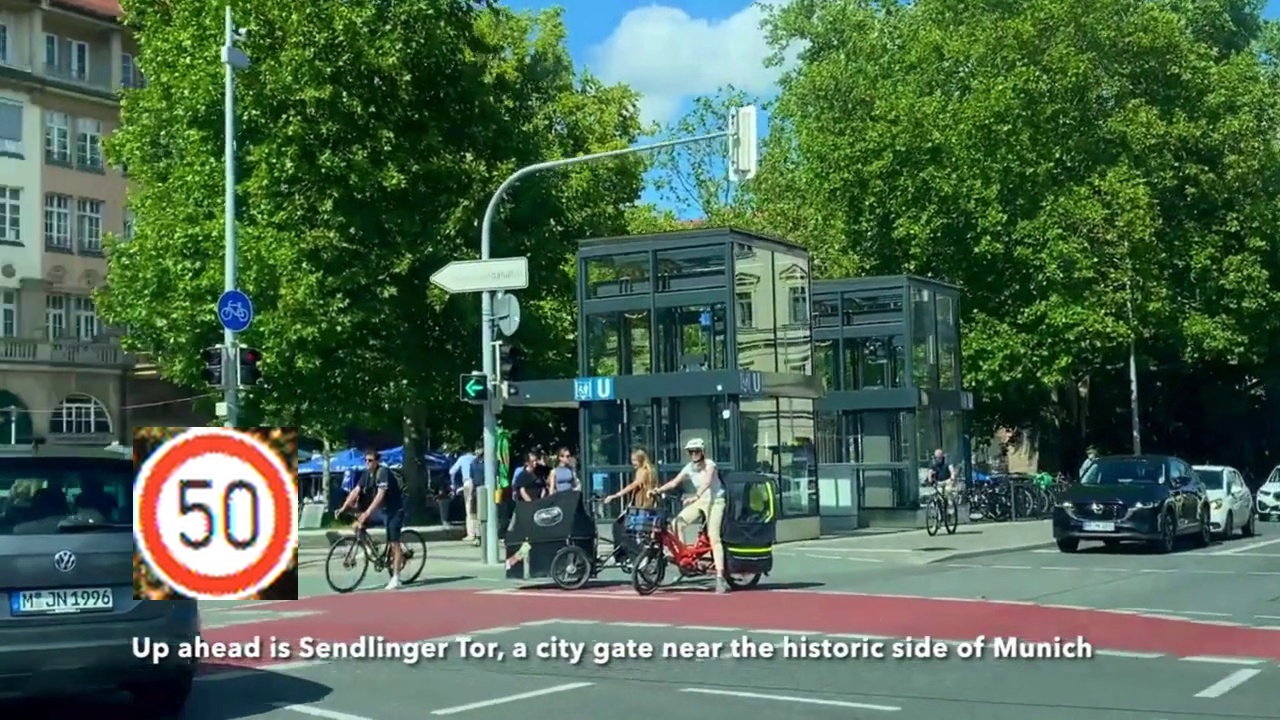Speed 50: (133, 427, 298, 600)
